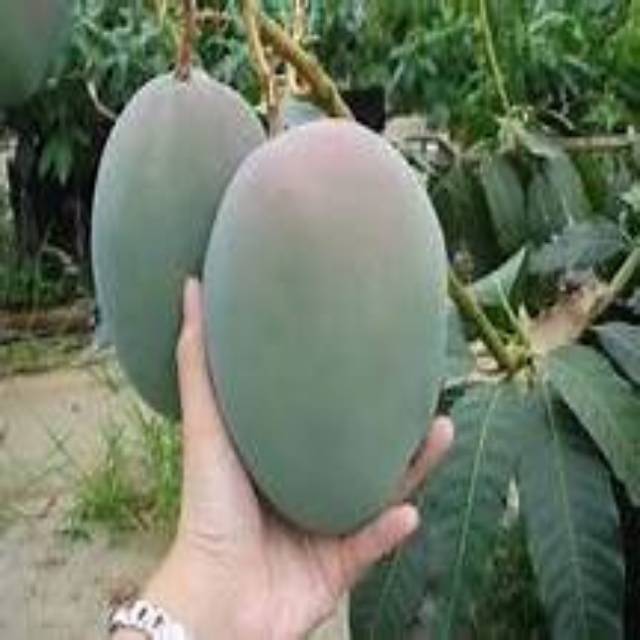mango: (207, 121, 444, 538), (95, 61, 263, 421)
